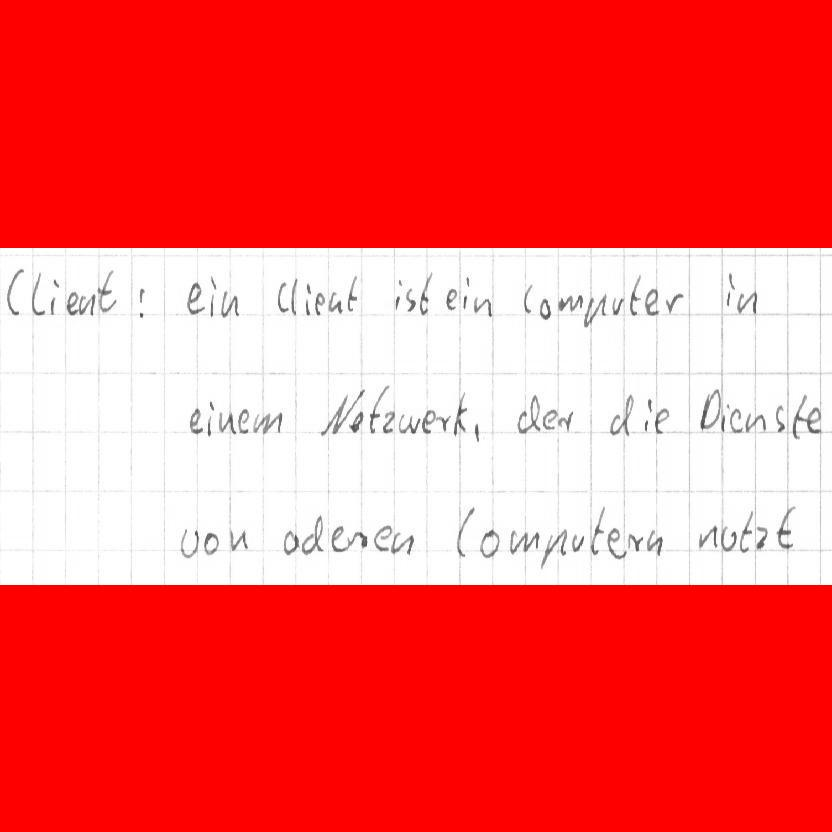Char: (319, 389, 355, 437), (536, 527, 568, 570), (454, 504, 477, 560), (774, 503, 800, 551), (607, 393, 636, 436), (3, 265, 27, 316), (96, 268, 120, 315), (300, 514, 325, 557), (368, 383, 388, 434), (699, 388, 722, 431), (517, 392, 540, 434), (582, 290, 607, 328), (588, 503, 605, 557), (477, 524, 500, 561), (252, 408, 284, 434), (627, 271, 644, 319), (738, 508, 755, 556), (183, 280, 205, 317), (29, 269, 46, 316), (417, 270, 434, 317), (509, 529, 540, 554), (791, 391, 807, 439), (388, 529, 416, 556), (452, 390, 468, 437), (178, 525, 199, 560), (720, 269, 736, 312), (607, 524, 626, 560), (228, 526, 252, 554), (735, 286, 758, 315), (519, 279, 536, 318), (371, 522, 392, 553), (752, 521, 771, 555), (555, 291, 583, 314), (220, 288, 240, 320), (743, 408, 767, 434), (280, 526, 300, 556), (643, 528, 663, 558), (663, 291, 686, 316), (275, 278, 290, 316), (47, 277, 61, 317), (698, 521, 717, 550), (472, 294, 494, 319), (805, 404, 822, 436), (329, 521, 345, 555), (397, 411, 419, 435), (187, 407, 205, 436), (77, 290, 96, 317), (644, 286, 660, 318), (653, 405, 669, 436), (728, 404, 743, 435), (208, 273, 218, 319), (556, 410, 576, 433), (203, 530, 220, 557), (346, 274, 357, 315), (641, 394, 652, 435), (721, 523, 736, 553), (217, 409, 234, 435), (420, 406, 435, 435), (772, 402, 786, 433), (289, 275, 299, 317), (540, 408, 559, 430), (570, 529, 586, 555), (352, 527, 369, 551), (627, 532, 644, 556), (327, 290, 342, 317), (380, 409, 395, 436), (205, 397, 215, 437), (349, 409, 365, 434), (64, 288, 78, 316), (237, 406, 250, 436), (136, 284, 146, 322), (610, 291, 624, 318), (394, 275, 404, 312), (435, 411, 451, 433), (442, 285, 456, 310), (719, 399, 729, 434), (462, 275, 471, 313), (404, 285, 416, 313), (538, 297, 552, 319), (313, 291, 325, 316), (305, 280, 312, 318), (474, 419, 481, 443)
